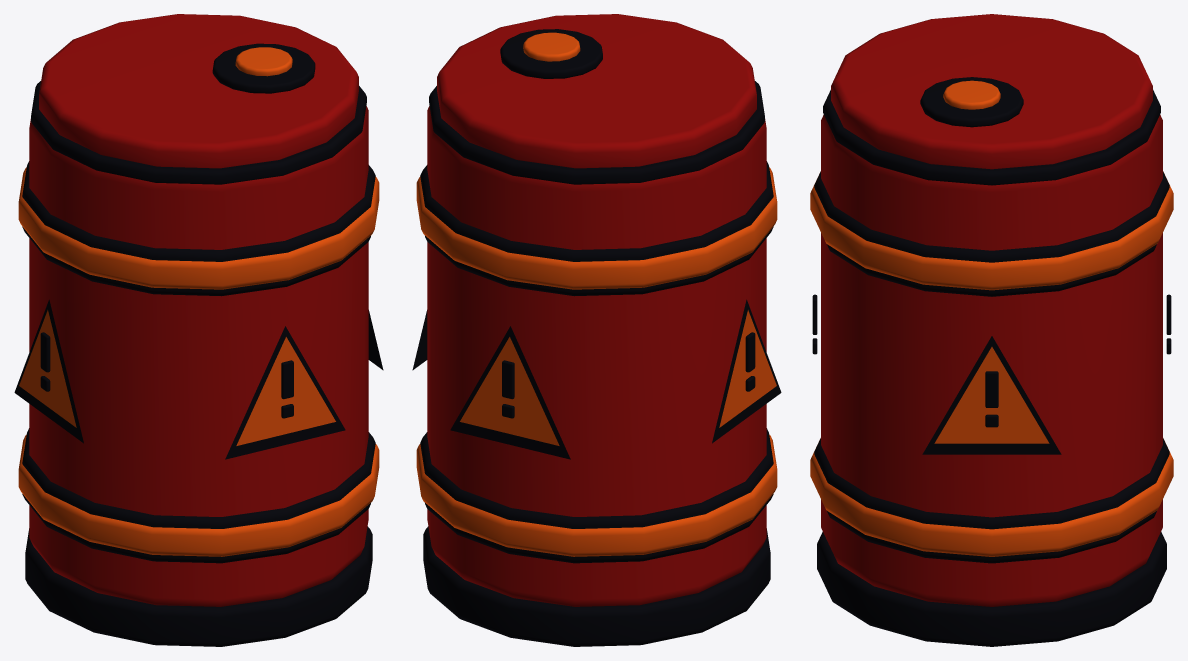
The model's file is CryoExplosiveBarrel.fbx.
The picture shows the model from 3 angles, left to right: view 1: azimuth 30°, elevation 25°; view 2: azimuth 150°, elevation 25°; view 3: azimuth 270°, elevation 25°; orthographic projection.
Visible parts, largest first — view 1: CryoExplosiveBarrel; view 2: CryoExplosiveBarrel; view 3: CryoExplosiveBarrel.
Part boxes in pixels (x1,y1,x2,y2): CryoExplosiveBarrel: (14, 14, 383, 646); CryoExplosiveBarrel: (412, 14, 781, 646); CryoExplosiveBarrel: (810, 14, 1173, 646).
Bounding box in the file's own units: 0.914 × 1.42 × 0.914.
